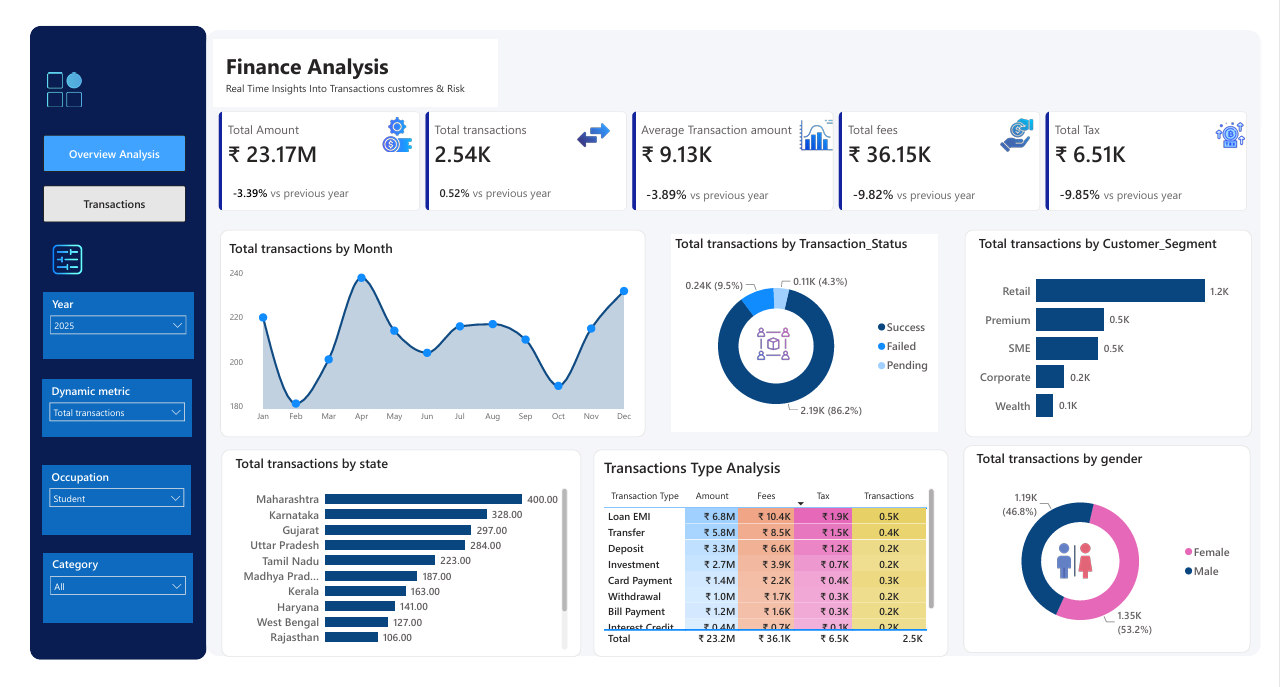

The page's visual inventory and layout, read from the dashboard file:
{"tool":"powerbi","page":{"name":"Overview Analysis","canvas":[1800,950],"ordinal":0},"visuals":[{"type":"shape","box":[19.6,14.7,255.1,917.3],"z":0},{"type":"shape","box":[274.7,21.3,1525.6,905.9],"z":1000},{"type":"cardVisual","fields":{"Data":["finance_transactions.Dashboard Title"]},"box":[286.2,34.3,412.1,98.1],"z":2000},{"type":"cardVisual","fields":{"Data":["finance_transactions.Total Amount","finance_transactions.Total transactions","finance_transactions.Average Transaction amount","finance_transactions.Total fees","finance_transactions.Total Tax"]},"box":[286.7,133.3,1500,155],"z":3000},{"type":"slicer","fields":{"Values":["Calendar Table.Year"]},"box":[39.2,400.6,216.7,96.7],"z":4000},{"type":"image","box":[520,148,62,50],"z":5000},{"type":"image","box":[801.7,148.3,66.7,50],"z":6000},{"type":"image","box":[1126.7,148.3,60,50],"z":7000},{"type":"image","box":[1413.3,148.3,66.7,50],"z":8000},{"type":"image","box":[1725,148.3,61.7,50],"z":9000},{"type":"slicer","fields":{"Values":["Dynamic metric.Dynamic metric"]},"box":[37.6,526.5,216.7,83.3],"z":10000},{"type":"shape","box":[295,310,615,300],"z":11000},{"type":"areaChart","fields":{"Y":["finance_transactions.Total transactions"],"Category":["Calendar Table.Month"]},"box":[303.3,323.3,600,273.3],"z":12000},{"type":"shape","box":[1370,622,415,300],"z":13000},{"type":"donutChart","fields":{"Y":["finance_transactions.Total transactions"],"Category":["finance_transactions.transaction_status"]},"box":[948.3,316.7,385,286.7],"z":14000},{"type":"shape","box":[1371.7,310,415,300],"z":15000},{"type":"barChart","fields":{"Y":["finance_transactions.Total transactions"],"Category":["customers.customer_segment"]},"box":[1386.7,316.7,386.7,286.7],"z":16000},{"type":"shape","box":[296.7,628.3,520,300],"z":17000},{"type":"barChart","fields":{"Y":["finance_transactions.Total transactions"],"Category":["customers.state"]},"box":[311.7,635,490,286.7],"z":18000},{"type":"shape","box":[835,628.3,513.3,300],"z":19000},{"type":"tableEx","title":"Transactions Type Analysis","fields":{"Values":["finance_transactions.transaction_type","finance_transactions.Total Amount","finance_transactions.Total fees","finance_transactions.Total Tax","finance_transactions.Total transactions"]},"box":[845.4,639.4,487.3,278],"z":20000},{"type":"donutChart","fields":{"Y":["finance_transactions.Total transactions"],"Category":["customers.gender"]},"box":[1384,628,385,286.7],"z":21000},{"type":"image","box":[1064,450,62,50],"z":22000},{"type":"image","box":[1500,760,62,58],"z":23000},{"type":"slicer","fields":{"Values":["customers.occupation"]},"box":[37.6,650.8,215.8,99.7],"z":24000},{"type":"slicer","fields":{"Values":["finance_transactions.merchant_category"]},"box":[39.2,778.3,215.8,99.7],"z":25000},{"type":"pageNavigator","box":[39.2,173.3,206,127.5],"z":26000},{"type":"image","box":[39.2,83.4,62,50],"z":27000},{"type":"image","box":[42.8,328,62,50],"z":28000}]}

Visuals, with their boxes in screenshot pixels (x1, y1, x2, y2), scaled from the page's 1800x950 canvas onto the 1280x687 screenshot:
shape: locate(14, 11, 195, 674)
shape: locate(195, 15, 1279, 671)
cardVisual - finance_transactions.Dashboard Title: locate(204, 25, 497, 96)
cardVisual - finance_transactions.Total Amount x finance_transactions.Total transactions: locate(204, 96, 1271, 208)
slicer - Calendar Table.Year: locate(28, 290, 182, 360)
image: locate(370, 107, 414, 143)
image: locate(570, 107, 618, 143)
image: locate(801, 107, 844, 143)
image: locate(1005, 107, 1052, 143)
image: locate(1227, 107, 1271, 143)
slicer - Dynamic metric.Dynamic metric: locate(27, 381, 181, 441)
shape: locate(210, 224, 647, 441)
areaChart - finance_transactions.Total transactions x Calendar Table.Month: locate(216, 234, 642, 431)
shape: locate(974, 450, 1269, 667)
donutChart - finance_transactions.Total transactions x finance_transactions.transaction_status: locate(674, 229, 948, 436)
shape: locate(975, 224, 1271, 441)
barChart - finance_transactions.Total transactions x customers.customer_segment: locate(986, 229, 1261, 436)
shape: locate(211, 454, 581, 671)
barChart - finance_transactions.Total transactions x customers.state: locate(222, 459, 570, 667)
shape: locate(594, 454, 959, 671)
"Transactions Type Analysis" tableEx: locate(601, 462, 948, 663)
donutChart - finance_transactions.Total transactions x customers.gender: locate(984, 454, 1258, 661)
image: locate(757, 325, 801, 362)
image: locate(1067, 550, 1111, 592)
slicer - customers.occupation: locate(27, 471, 180, 543)
slicer - finance_transactions.merchant_category: locate(28, 563, 181, 635)
pageNavigator: locate(28, 125, 174, 218)
image: locate(28, 60, 72, 96)
image: locate(30, 237, 75, 273)
